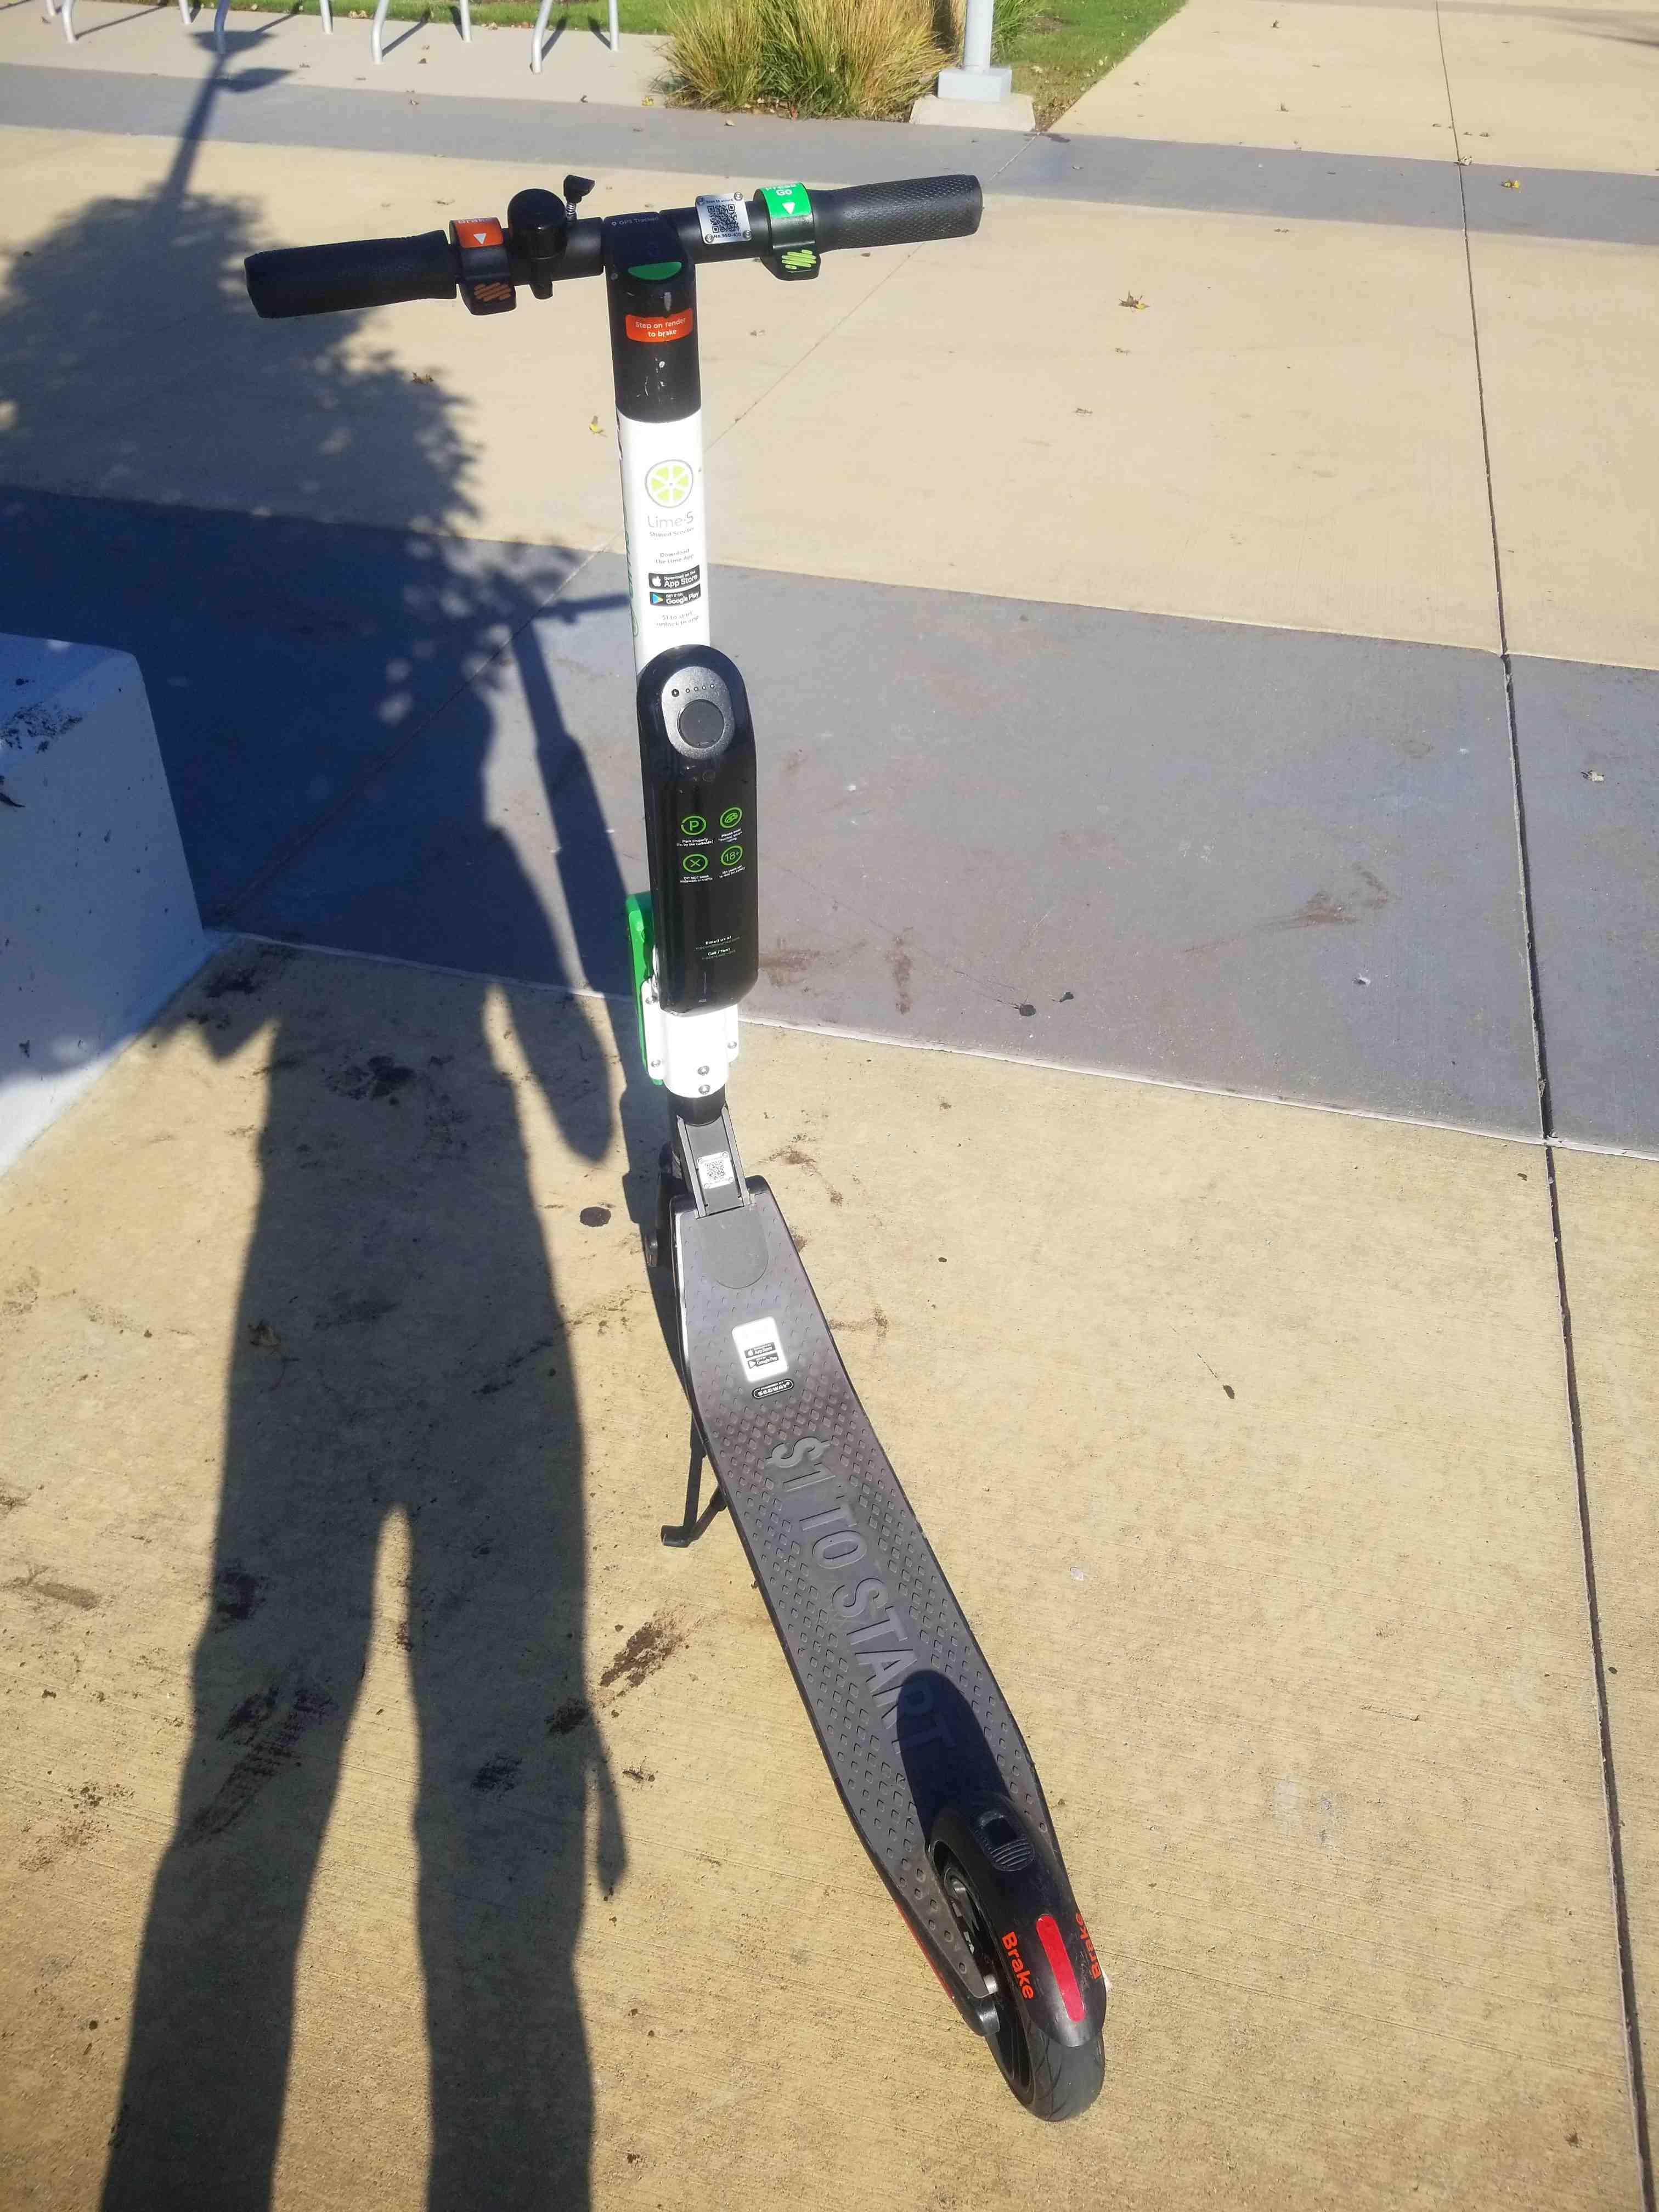scooter: (216, 117, 1187, 2167)
